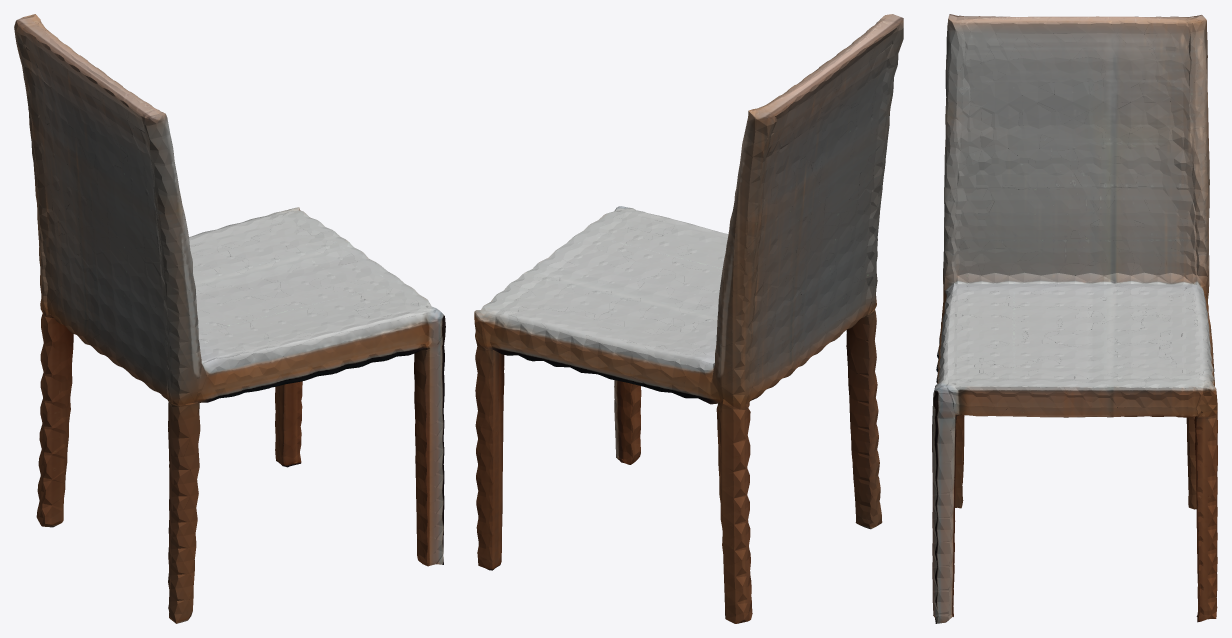
The model's file is elem_94_115_131_206_4_5.obj.
3 views of the same model, side by side, from view 1: azimuth 30°, elevation 25°; view 2: azimuth 150°, elevation 25°; view 3: azimuth 270°, elevation 25° (orthographic). The views are drawn at different scales.
Bounding box in the file's own units: 0.4227 × 0.7075 × 0.3815.
Materials: 1 (1 with a texture image).
